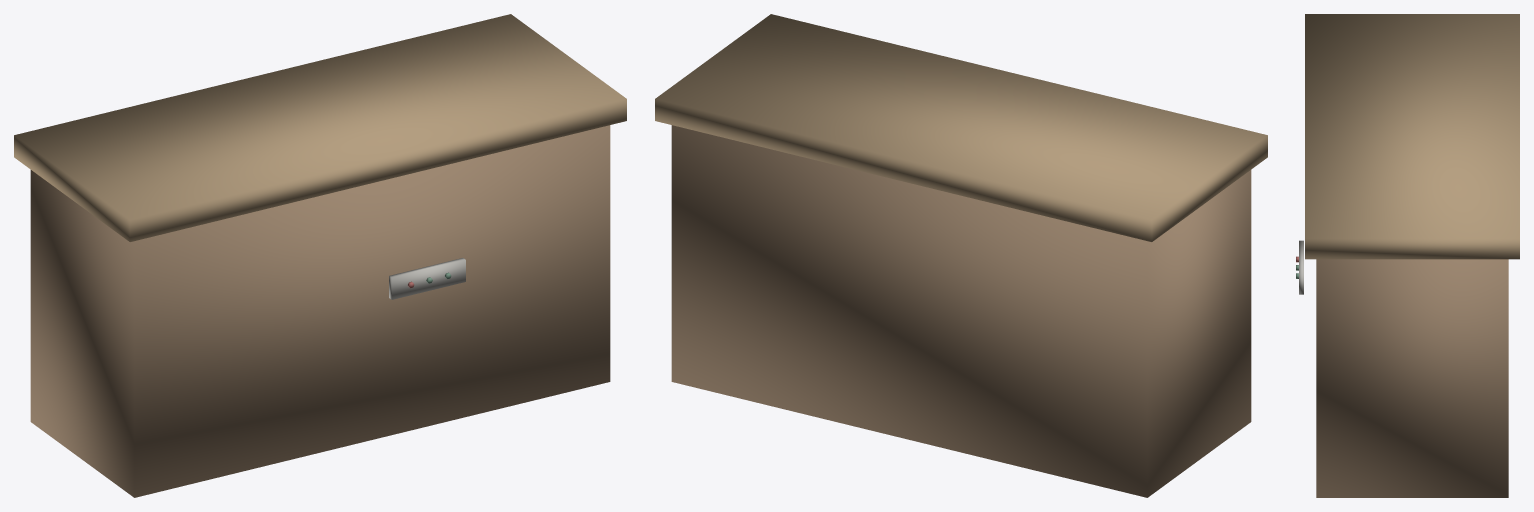
File: hotel_reception_counter.glb
3 views of the same model, side by side, from view 1: azimuth 30°, elevation 25°; view 2: azimuth 150°, elevation 25°; view 3: azimuth 270°, elevation 25° (orthographic). The views are drawn at different scales.
Parts seen in each view (by area): view 1: world; view 2: world; view 3: world.
Part boxes in pixels (x1=…): world: x1=14, y1=14, x2=626, y2=497; world: x1=655, y1=14, x2=1267, y2=497; world: x1=1296, y1=14, x2=1519, y2=497.
Bounding box in the file's own units: 1.88 × 1.03 × 0.791.
